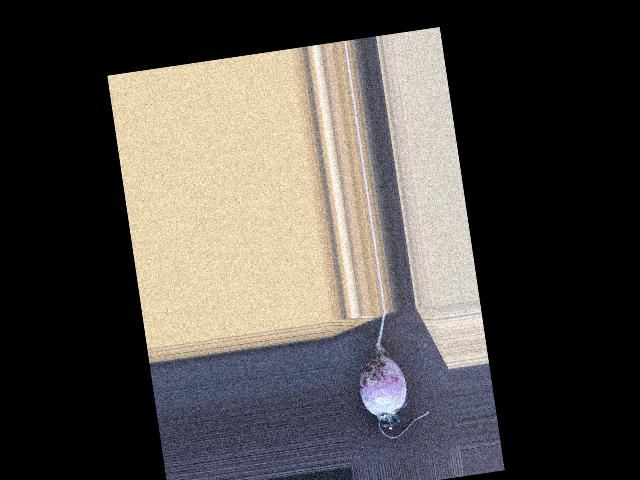beet: (348, 307, 431, 442)
